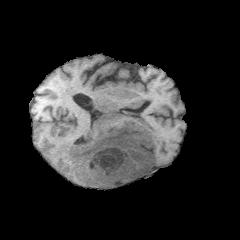glioma: (56, 123, 155, 186)
